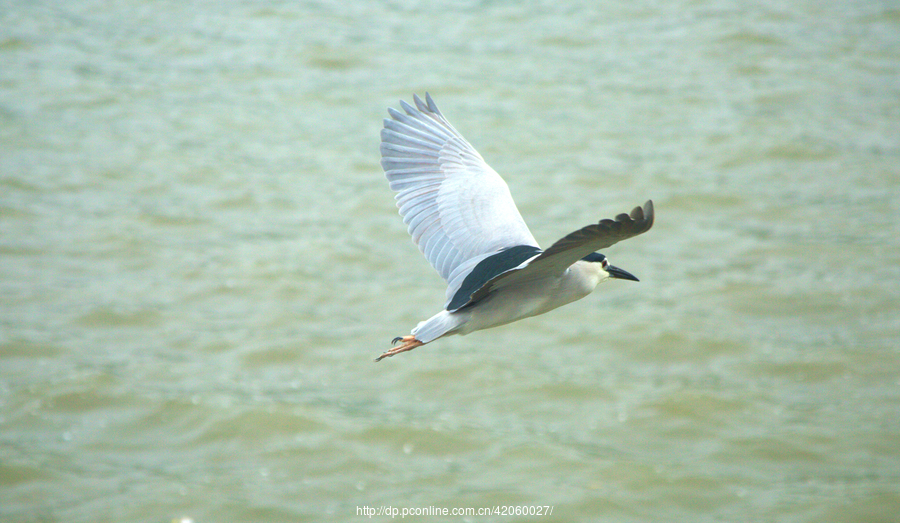bird: (349, 105, 658, 365)
